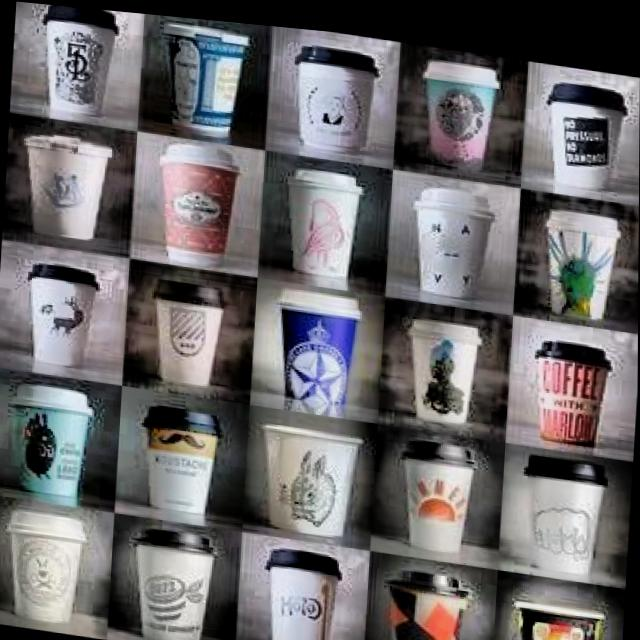Cup: (254, 416, 367, 536), (0, 375, 101, 504), (274, 280, 372, 405), (404, 173, 497, 301), (520, 444, 613, 569), (409, 47, 505, 167), (538, 72, 639, 183), (159, 13, 251, 134), (0, 514, 94, 631), (528, 325, 621, 441), (530, 196, 620, 315), (285, 36, 382, 145), (154, 136, 239, 260), (129, 523, 218, 640), (19, 127, 111, 238), (397, 427, 483, 544), (136, 406, 223, 517), (21, 261, 107, 373), (37, 3, 123, 113), (400, 308, 486, 418), (263, 540, 352, 640), (377, 557, 481, 640), (152, 282, 227, 392), (288, 169, 366, 274), (510, 581, 607, 640)
